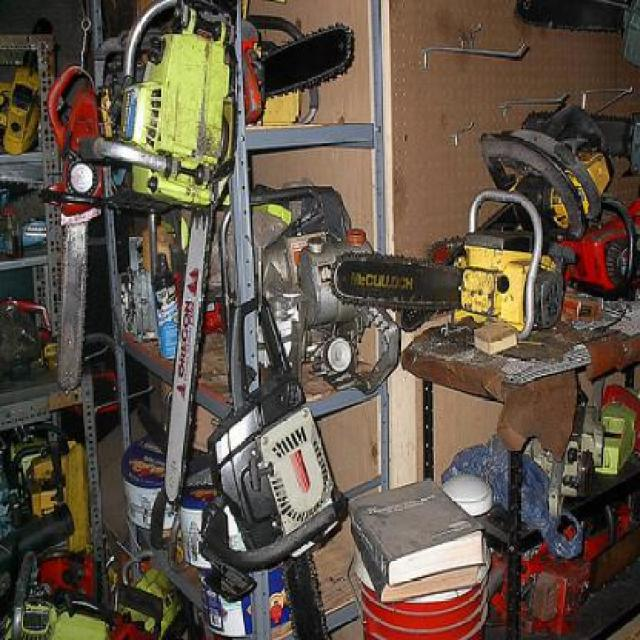Chainsaw: (90, 0, 242, 497), (210, 298, 344, 640), (328, 192, 566, 345), (45, 62, 106, 396), (240, 15, 358, 128)
